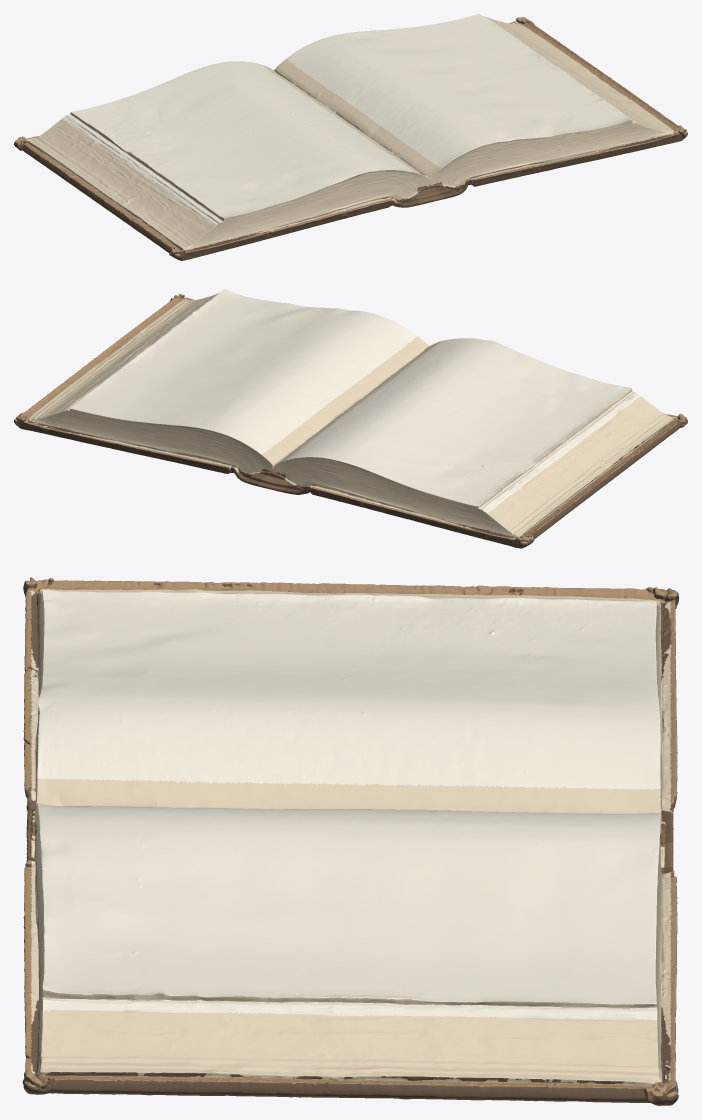
Rendered from bible.glb.
3 renders of one model, top to bottom at view 1: azimuth 30°, elevation 25°; view 2: azimuth 150°, elevation 25°; view 3: azimuth 270°, elevation 25°, orthographic. The views are drawn at different scales.
Visible parts, largest first — view 1: ROG_BIBLE_HYPER3D_MASTER; view 2: ROG_BIBLE_HYPER3D_MASTER; view 3: ROG_BIBLE_HYPER3D_MASTER.
Part boxes in pixels (<box>): ROG_BIBLE_HYPER3D_MASTER: <box>14,14,687,260</box>; ROG_BIBLE_HYPER3D_MASTER: <box>14,289,687,548</box>; ROG_BIBLE_HYPER3D_MASTER: <box>22,577,679,1105</box>.
Size of the model in its own units: 2.69 by 0.2524 by 1.48.
